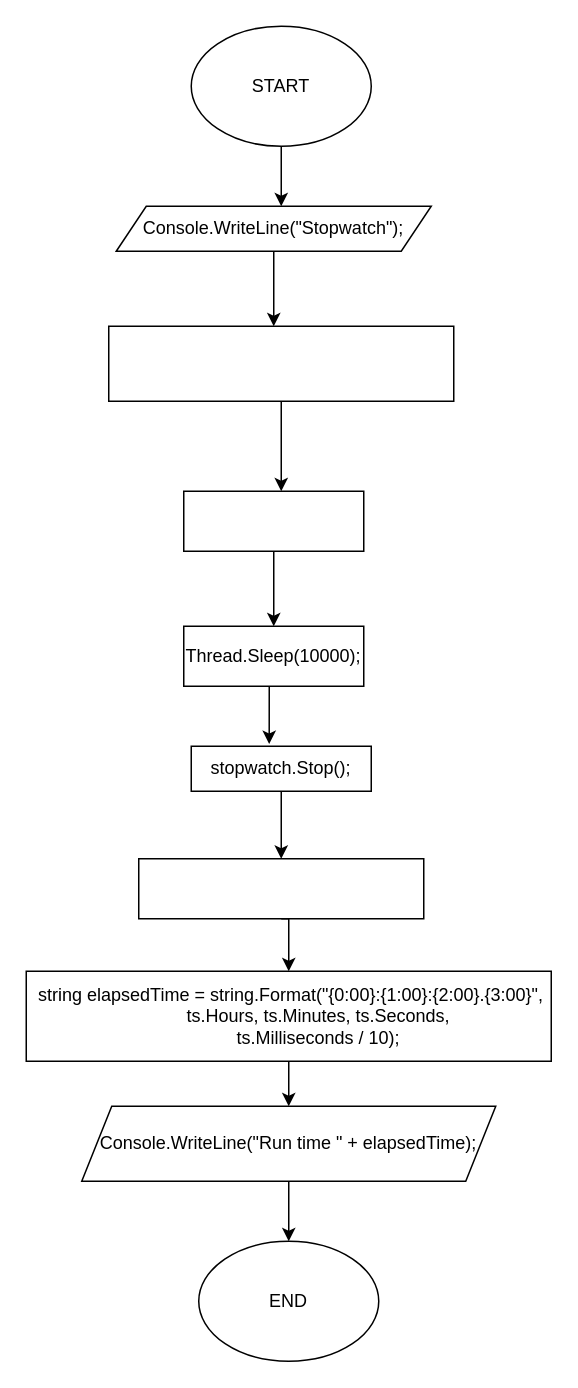
Image size: 578x1388. Some labels were removed from this diagram. Here are the shapes that lost their labels. From the top down, the box of each, then its label:
(107, 325, 454, 401): System.Diagnostics.Stopwatch stopwatch = new System.Diagnostics.Stopwatch ();
(182, 490, 364, 551): stopwatch.Start();
(137, 857, 424, 919): TimeSpan ts = stopwatch.Elapsed;
